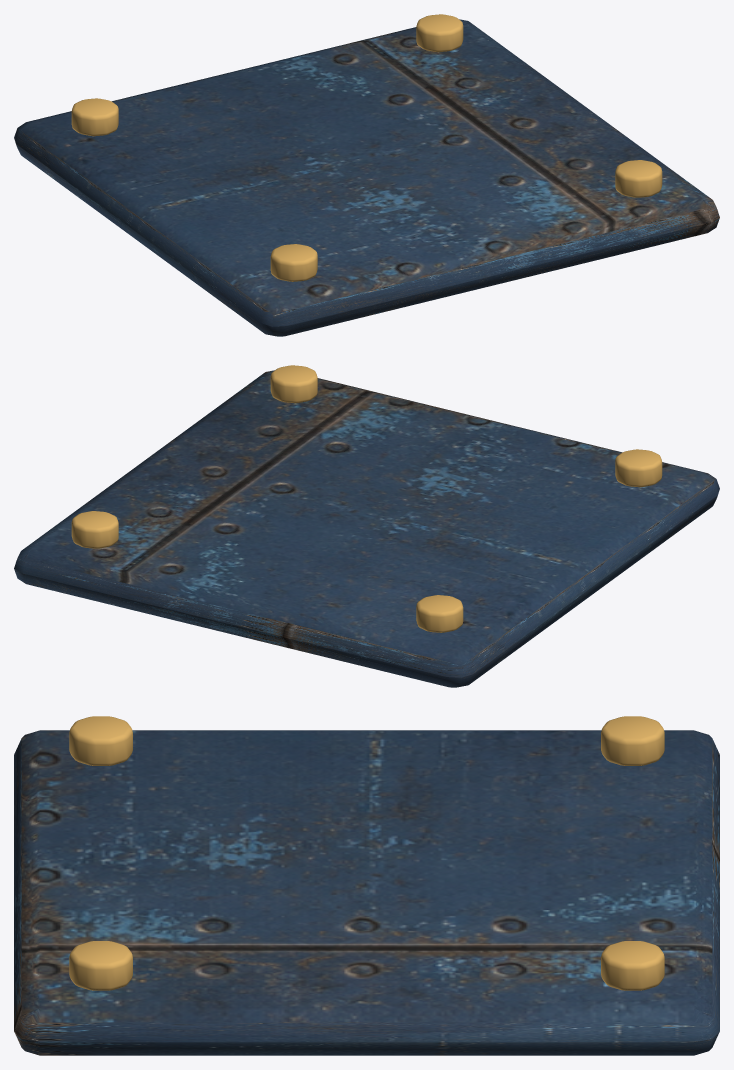
The model's file is w2_tile_normal.glb.
3 views of the same model, one above another, from view 1: azimuth 30°, elevation 25°; view 2: azimuth 150°, elevation 25°; view 3: azimuth 270°, elevation 25° (orthographic). The views are drawn at different scales.
Parts seen in each view (by area): view 1: w2_tile_normal; view 2: w2_tile_normal; view 3: w2_tile_normal.
Boxes of the visible parts, x1,y1,x2,y2 form: w2_tile_normal: [14, 14, 719, 336]; w2_tile_normal: [14, 365, 719, 687]; w2_tile_normal: [14, 716, 719, 1055].
Bounding box in the file's own units: 1.62 × 0.195 × 1.62.
2 materials, 1 textured.
